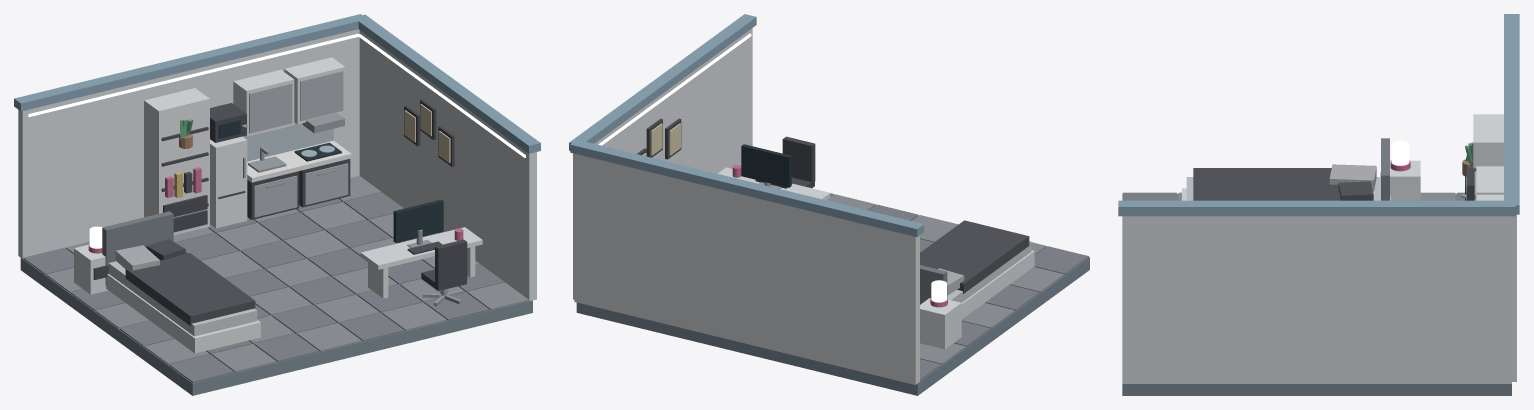
Rendered from room.glb.
3 views of the same model, side by side, from view 1: azimuth 30°, elevation 25°; view 2: azimuth 150°, elevation 25°; view 3: azimuth 270°, elevation 25° (orthographic). The views are drawn at different scales.
Parts seen in each view (by area): view 1: Wall_Back, Wall_Right, Floor_Base, Storage_Tall, Wall_Back_Cap, Blanket, Wall_Right_Cap, Kitchen_Fridge, Bed_Frame, Headboard, Kitchen_Backsplash, Upper_Door_1 (+59 smaller); view 2: Wall_Back, Wall_Right, Floor_Base, Wall_Back_Cap, Blanket, Wall_Right_Cap, Nightstand, Monitor_Screen, Bed_Frame, Chair_Back, Carpet_00_00, Carpet_01_00 (+9 smaller); view 3: Wall_Right, Wall_Right_Cap, Floor_Base, Blanket, Wall_Back_Cap, Storage_Tall, Nightstand, Pillow_Main, Wall_Back, Kitchen_Upper_1, Pillow_Accent, Headboard (+3 smaller).
Part boxes in pixels (x1,y1,x2,y2): Wall_Back: [18, 29, 359, 258]; Wall_Right: [359, 30, 536, 301]; Floor_Base: [20, 201, 532, 395]; Storage_Tall: [144, 88, 209, 235]; Wall_Back_Cap: [14, 14, 366, 111]; Blanket: [125, 253, 255, 325]; Wall_Right_Cap: [355, 14, 540, 153]; Kitchen_Fridge: [210, 136, 247, 228]; Bed_Frame: [106, 274, 260, 353]; Headboard: [102, 211, 173, 285]; Kitchen_Backsplash: [242, 122, 333, 161]; Upper_Door_1: [249, 83, 292, 133]; Wall_Back: [574, 153, 919, 384]; Wall_Right: [573, 28, 752, 299]; Floor_Base: [576, 257, 1089, 395]; Wall_Back_Cap: [570, 139, 923, 236]; Blanket: [920, 220, 1029, 293]; Wall_Right_Cap: [569, 14, 756, 150]; Nightstand: [920, 298, 961, 349]; Monitor_Screen: [741, 144, 791, 187]; Bed_Frame: [961, 250, 1034, 319]; Chair_Back: [782, 136, 815, 182]; Carpet_00_00: [1034, 246, 1088, 274]; Carpet_01_00: [1009, 267, 1064, 292]; Wall_Right: [1122, 216, 1511, 383]; Wall_Right_Cap: [1118, 200, 1515, 216]; Floor_Base: [1122, 193, 1511, 395]; Blanket: [1193, 168, 1340, 200]; Wall_Back_Cap: [1504, 14, 1519, 214]; Storage_Tall: [1473, 114, 1503, 168]; Nightstand: [1390, 160, 1420, 200]; Pillow_Main: [1329, 164, 1376, 191]; Wall_Back: [1512, 214, 1516, 381]; Kitchen_Upper_1: [1476, 166, 1503, 194]; Pillow_Accent: [1338, 181, 1373, 200]; Headboard: [1381, 138, 1389, 200].
Bounding box in the file's own units: 8.21 × 3.81 × 7.21.
